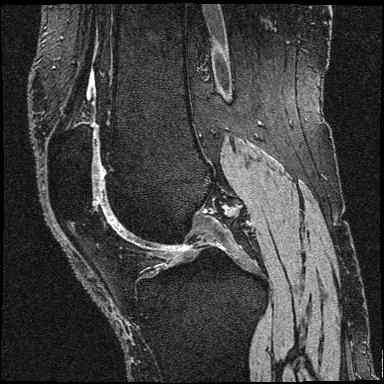SagKneeJointArea: (47, 124, 270, 329)
